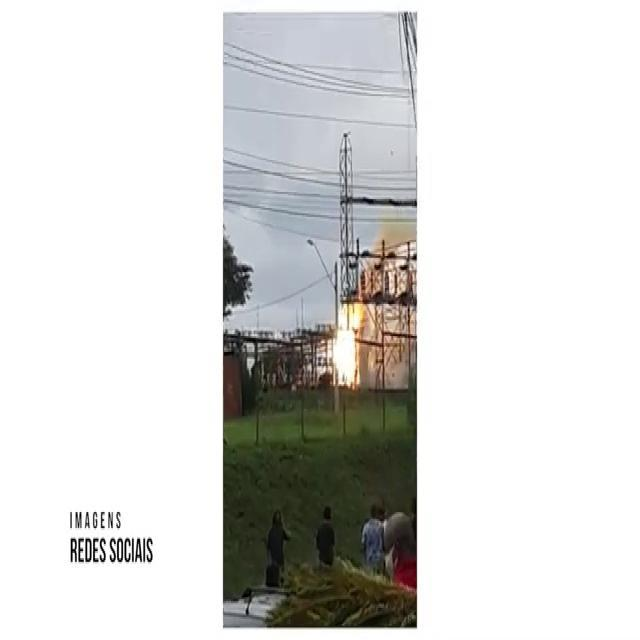Fire: (312, 298, 363, 386)
Smoke: (362, 208, 410, 290)
